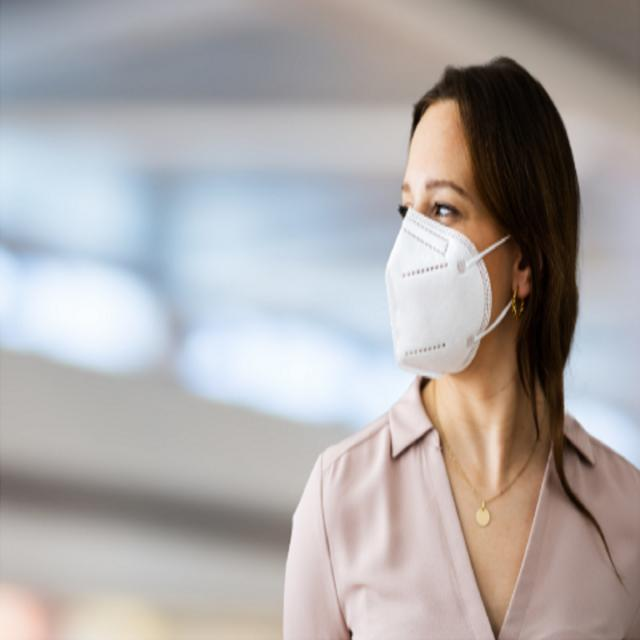1_mascarilla: (384, 204, 516, 380)
